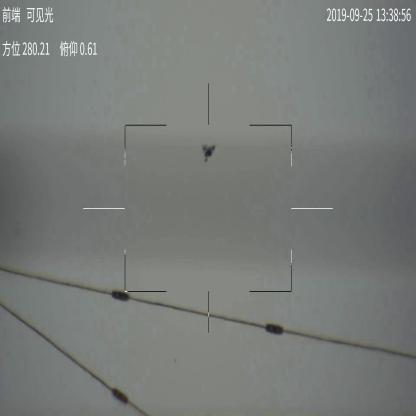uav: (199, 144, 217, 167)
